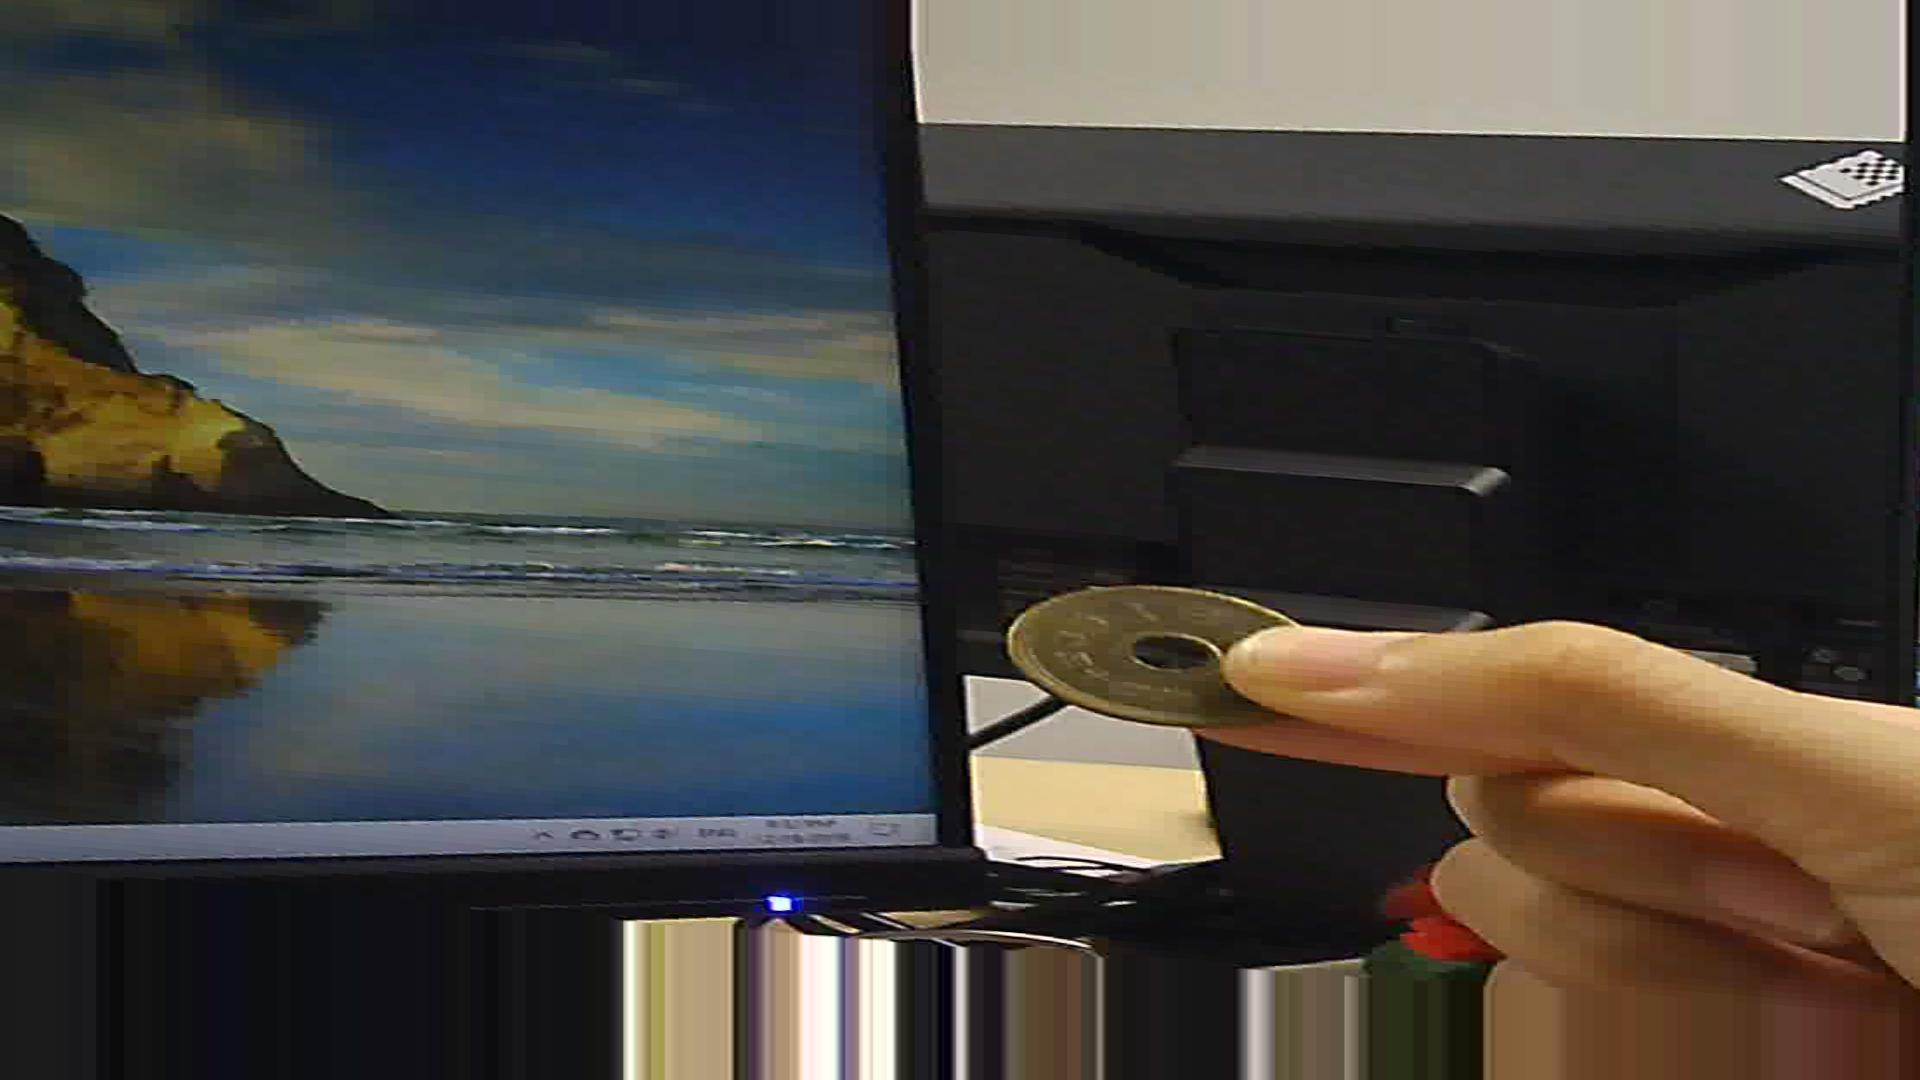5 Yen: (990, 570, 1305, 723)
